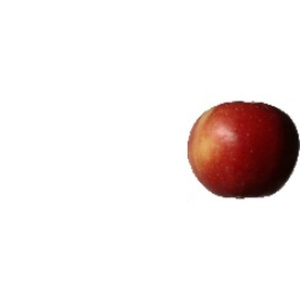maçã braeburn: (185, 93, 299, 203)
